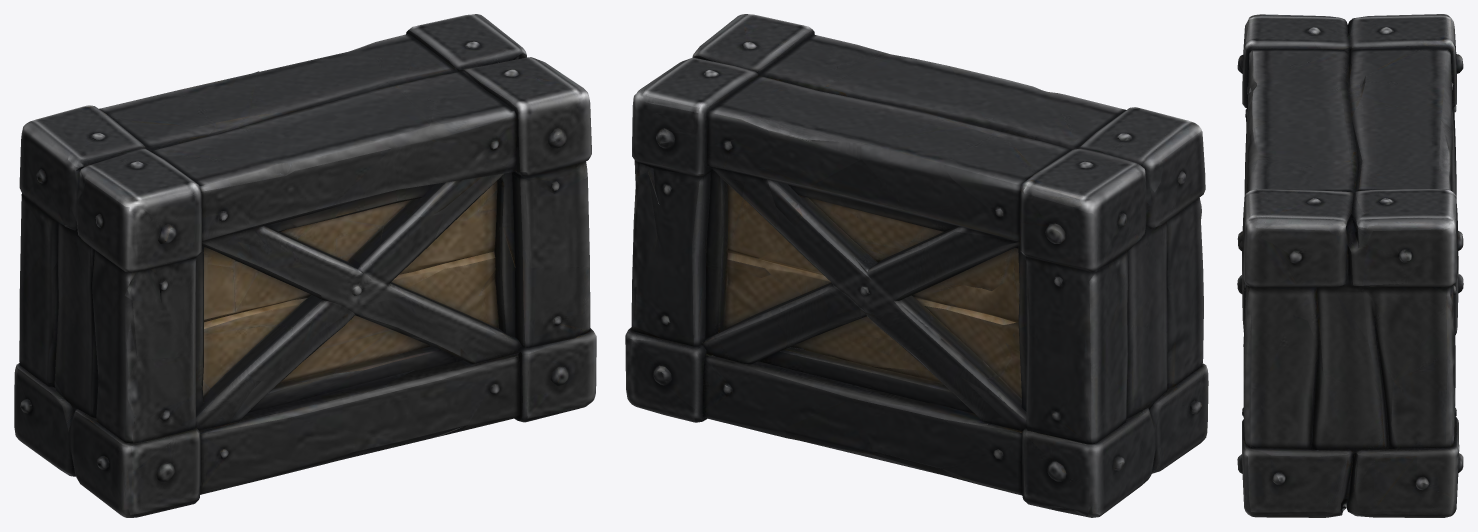
Rendered from iron-crate.glb.
3 views of the same model, side by side, from view 1: azimuth 30°, elevation 25°; view 2: azimuth 150°, elevation 25°; view 3: azimuth 270°, elevation 25° (orthographic). The views are drawn at different scales.
Bounding box in the file's own units: 1.93 × 1.22 × 0.8283.
1 material, 1 textured.
